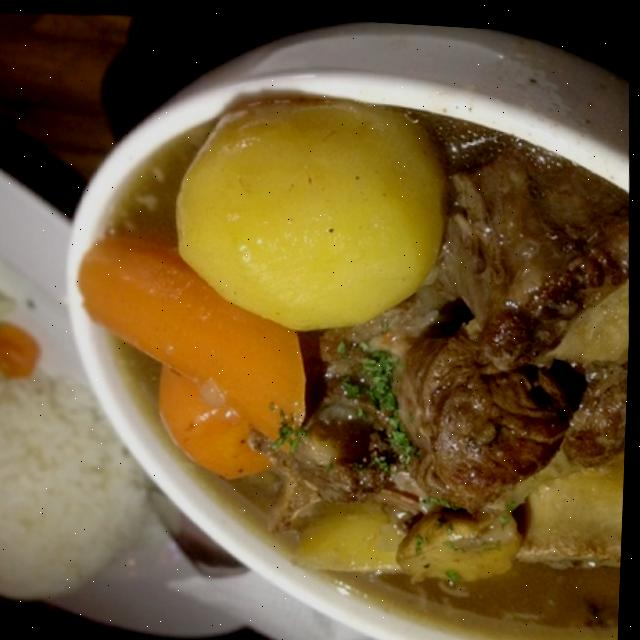汤锅炖物: (45, 27, 639, 640)
